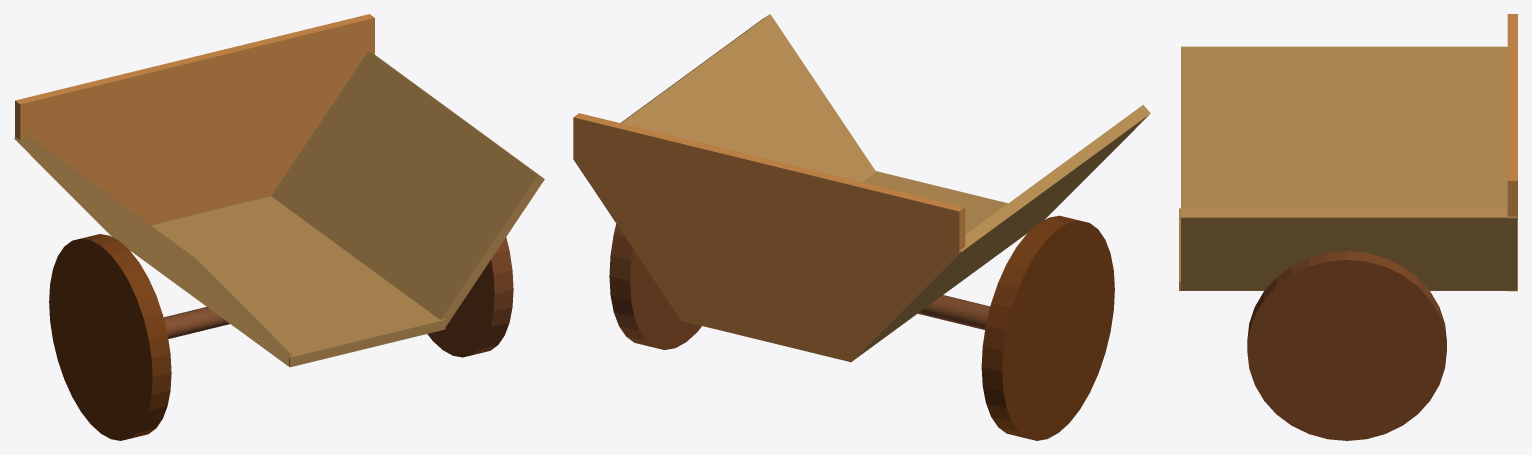
Rendered from carriage.glb.
3 renders of one model, left to right at view 1: azimuth 30°, elevation 25°; view 2: azimuth 150°, elevation 25°; view 3: azimuth 270°, elevation 25°, orthographic. The views are drawn at different scales.
Visible parts, largest first — view 1: Cube.003, Cube.001, Cube, Cylinder.002, Cube.002, Cylinder.001, Cylinder; view 2: Cube.003, Cylinder.002, Cube.001, Cube.002, Cylinder.001, Cube, Cylinder; view 3: Cube.002, Cylinder.001, Cube.001, Cube.003, Cube.
Part boxes in pixels (box(x1,y1,x2,y2)): Cube.003: box(15, 14, 374, 225); Cube.001: box(271, 51, 544, 326); Cube: box(151, 196, 445, 367); Cylinder.002: box(49, 234, 171, 440); Cube.002: box(14, 134, 292, 365); Cylinder.001: box(427, 237, 513, 357); Cylinder: box(163, 307, 229, 338); Cube.003: box(573, 113, 965, 362); Cylinder.002: box(981, 215, 1114, 440); Cube.001: box(620, 14, 875, 182); Cube.002: box(853, 105, 1150, 360); Cylinder.001: box(609, 224, 701, 349); Cube: box(863, 171, 1007, 234); Cylinder: box(918, 295, 990, 329); Cube.002: box(1181, 46, 1507, 208); Cylinder.001: box(1247, 251, 1446, 440); Cube.001: box(1181, 208, 1517, 290); Cube.003: box(1507, 14, 1517, 291); Cube: box(1179, 208, 1514, 290).
Bounding box in the file's own units: 9.64 × 6.83 × 8.13.
